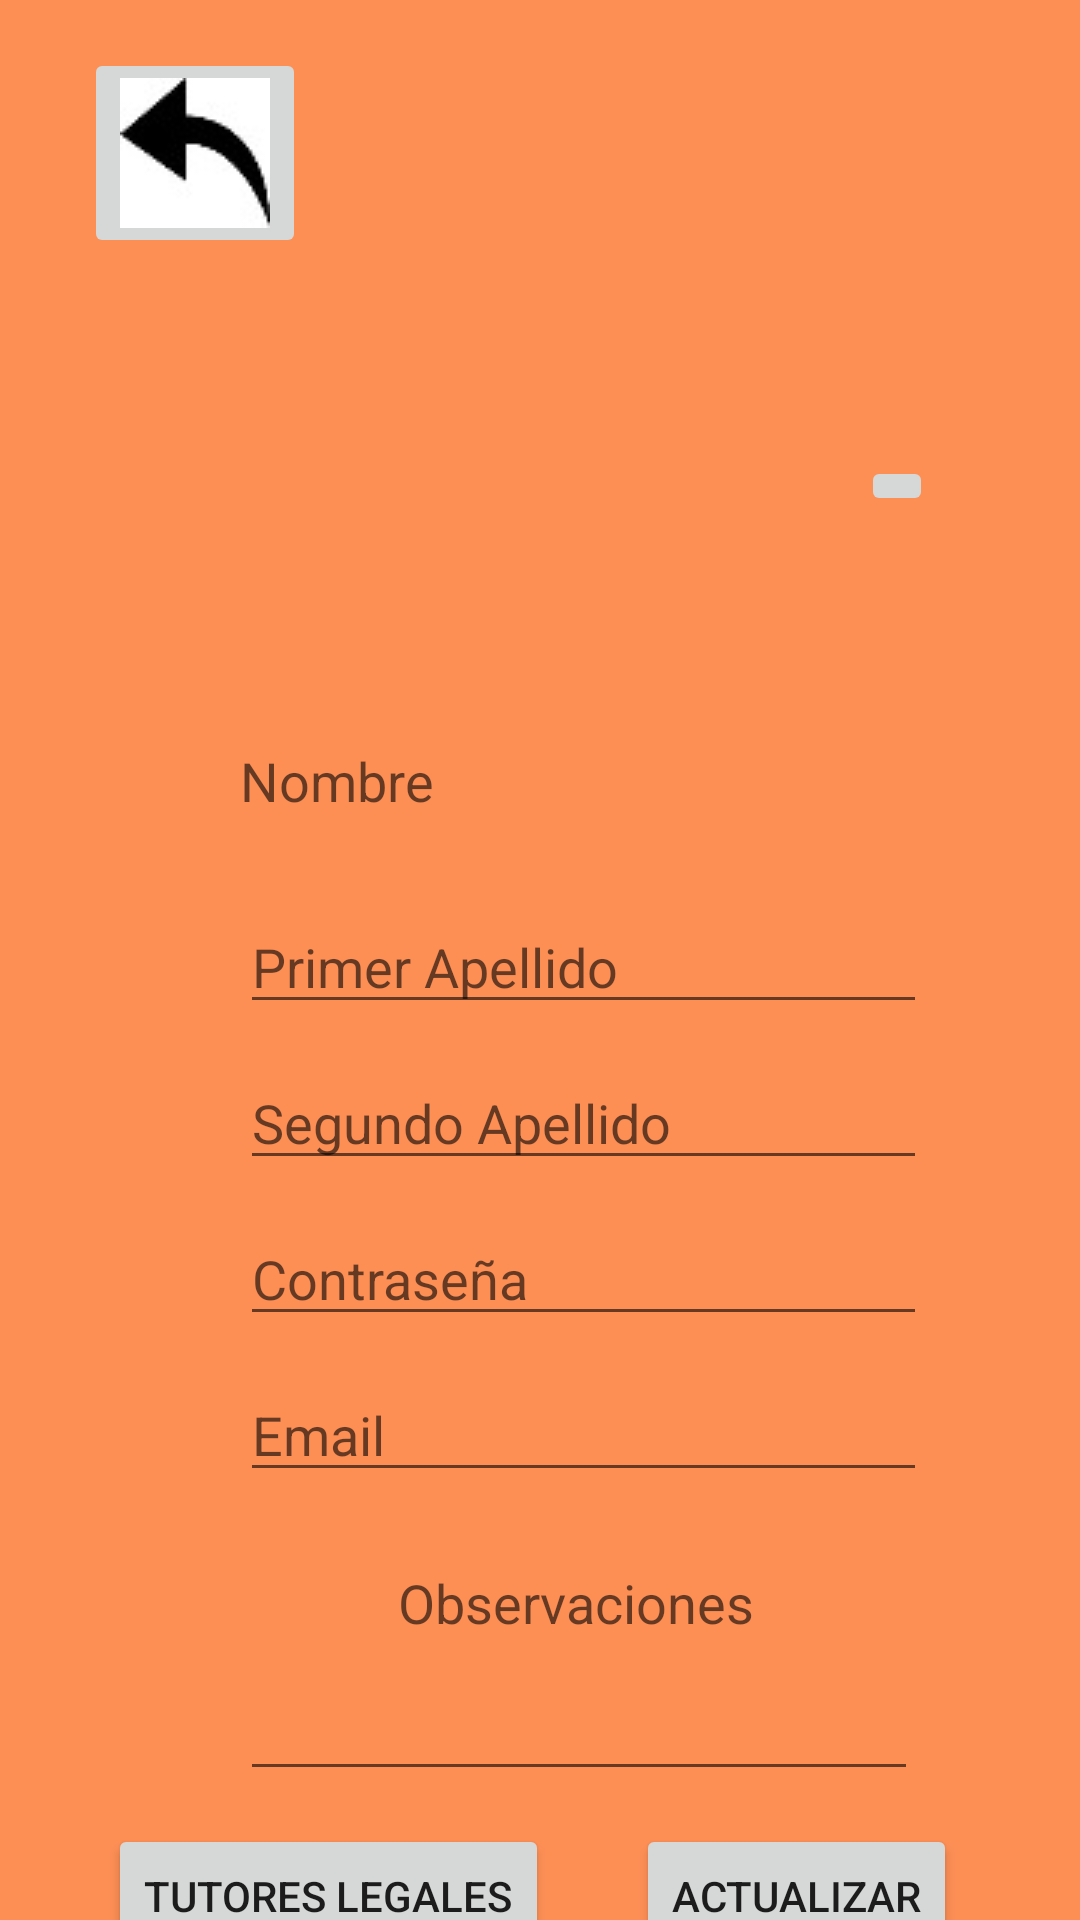

Named icons in this screenshot (1080*1920) and their centers, (x,y):
volver: (195,153)
